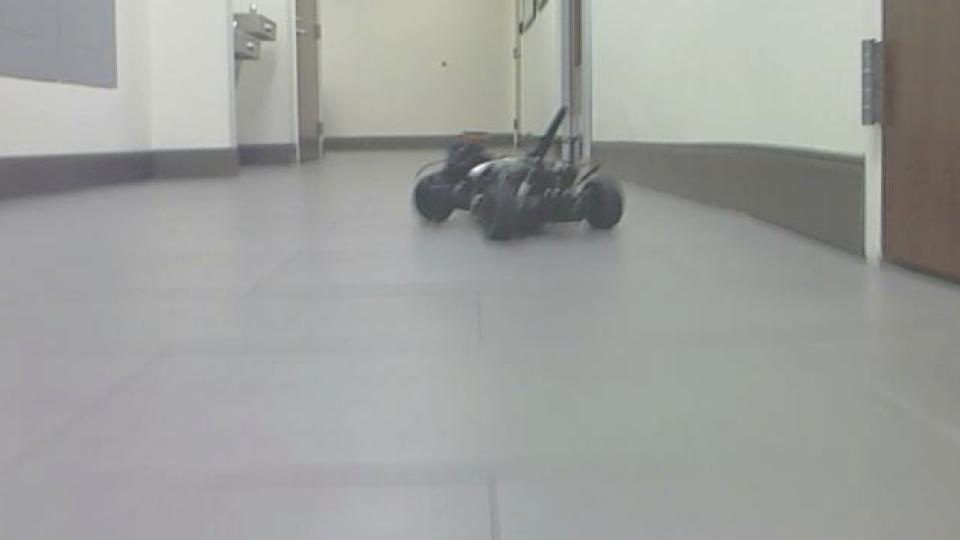car: (410, 102, 629, 244)
